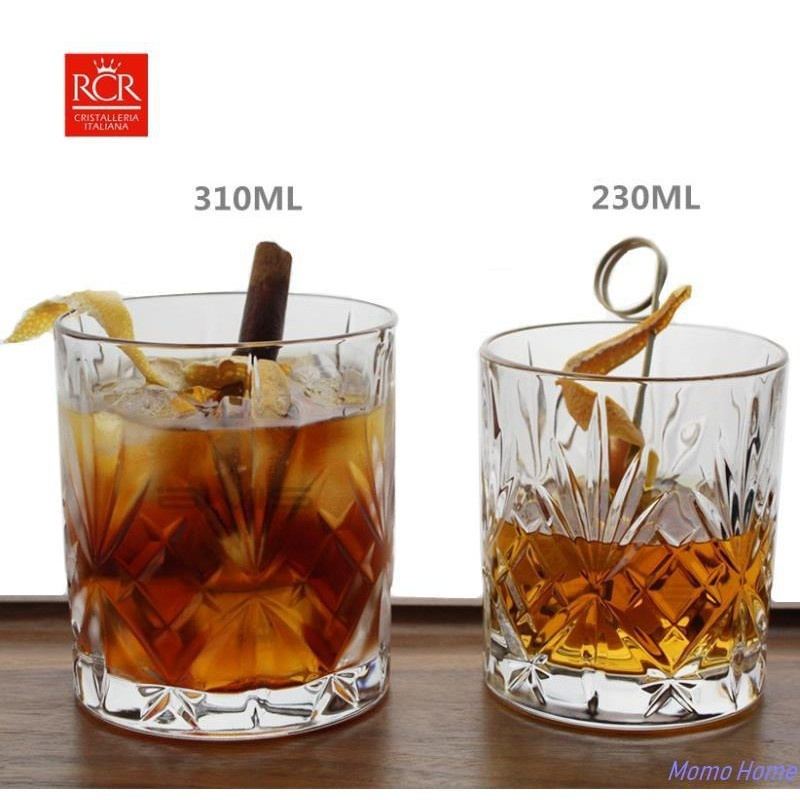whiskey: (59, 291, 402, 716), (480, 314, 773, 721)
